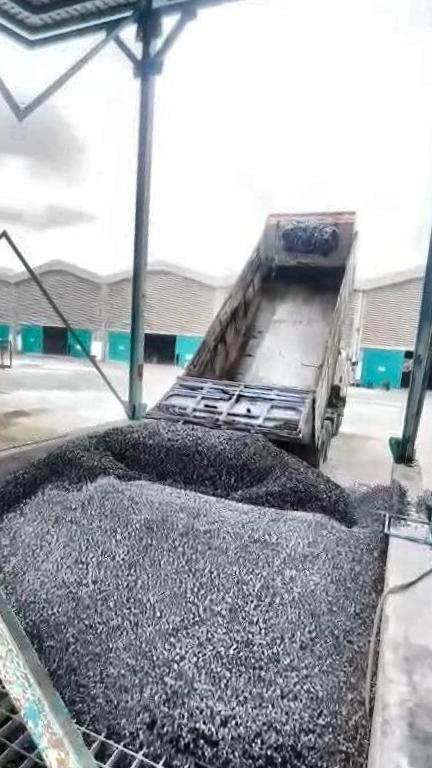gravel: (0, 420, 410, 768)
sand: (0, 398, 33, 455)
